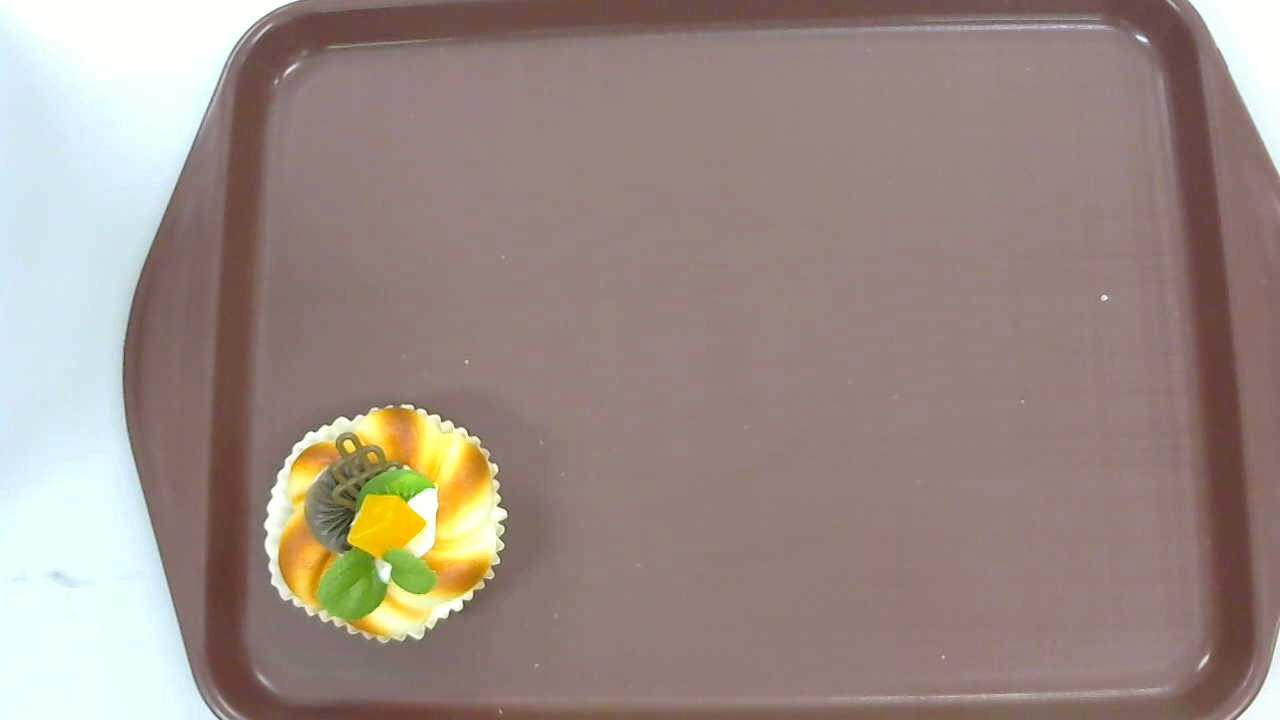fruit tart: (263, 402, 508, 641)
